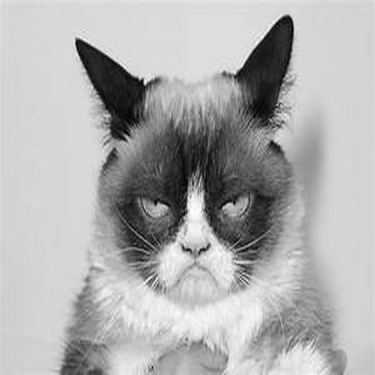cat: (55, 10, 349, 374)
